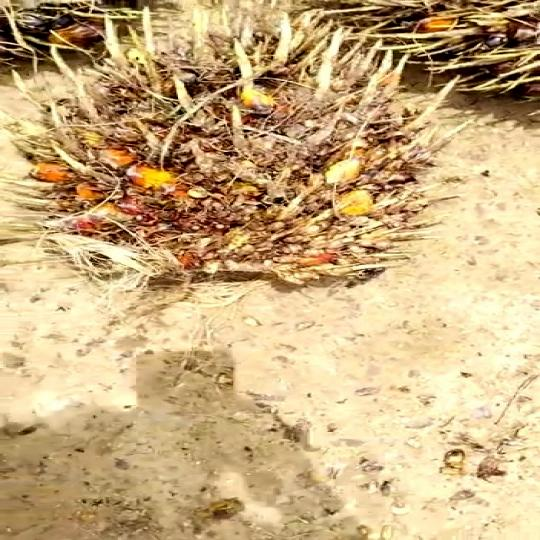terlalu masak: (0, 0, 540, 327)
